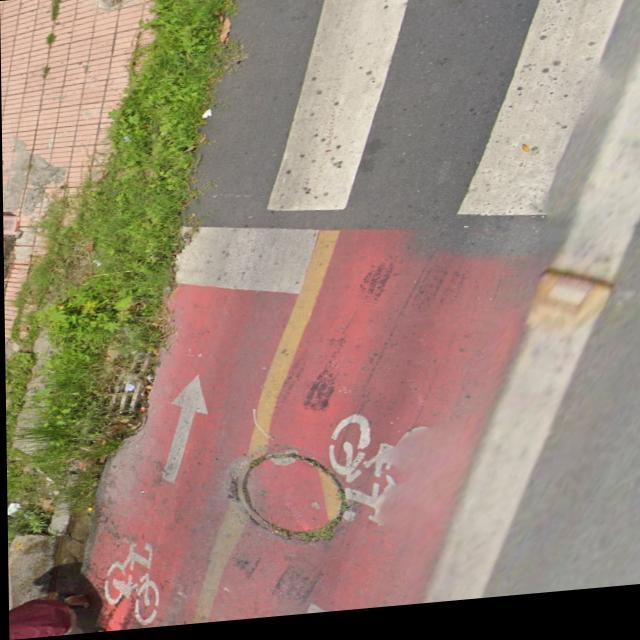Bueiro: (206, 447, 370, 559)
